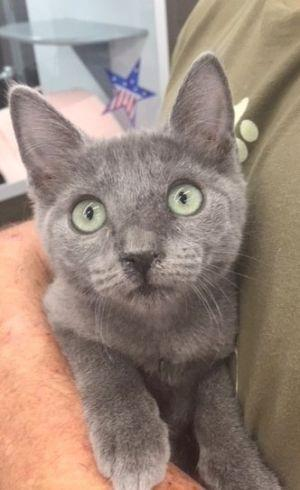rblue: (7, 47, 259, 336)
